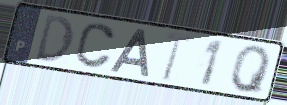1: (196, 38, 225, 87)
A: (107, 28, 150, 79)
C: (73, 21, 118, 71)
D: (34, 13, 76, 65)
Q: (229, 45, 273, 96)
T: (160, 30, 194, 83)
